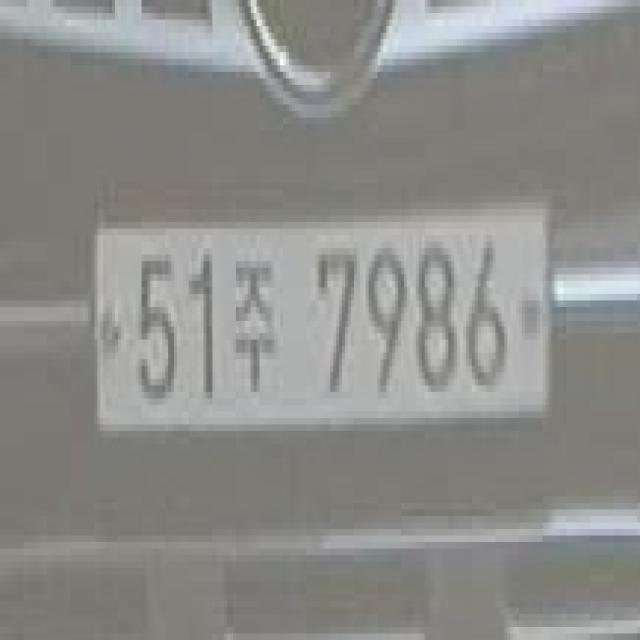1: (185, 252, 220, 411)
5: (135, 250, 179, 413)
6: (464, 238, 510, 400)
7: (312, 244, 359, 401)
8: (410, 242, 460, 404)
9: (363, 244, 408, 406)
ju: (230, 253, 274, 407)
license_plate: (84, 198, 558, 436)
